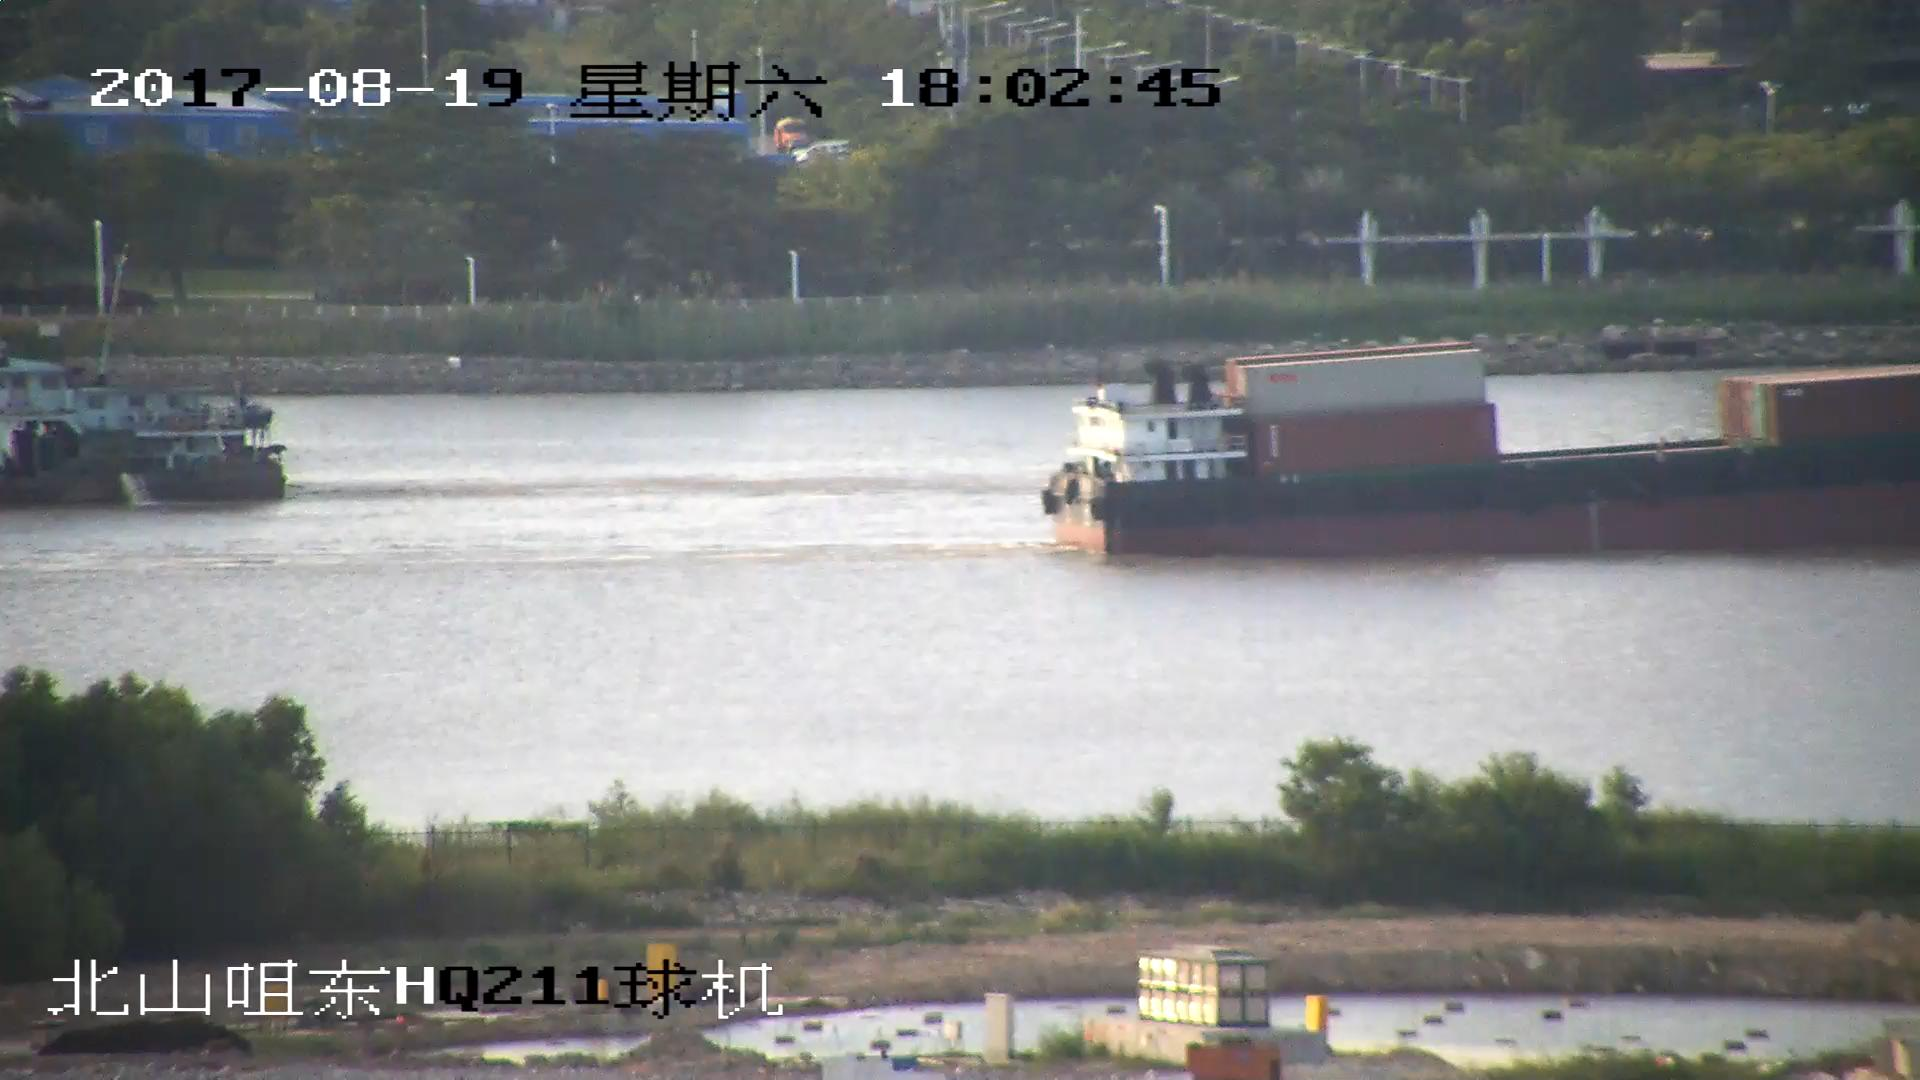container ship: (1044, 344, 1920, 557)
ore carrier: (1, 365, 288, 509)
